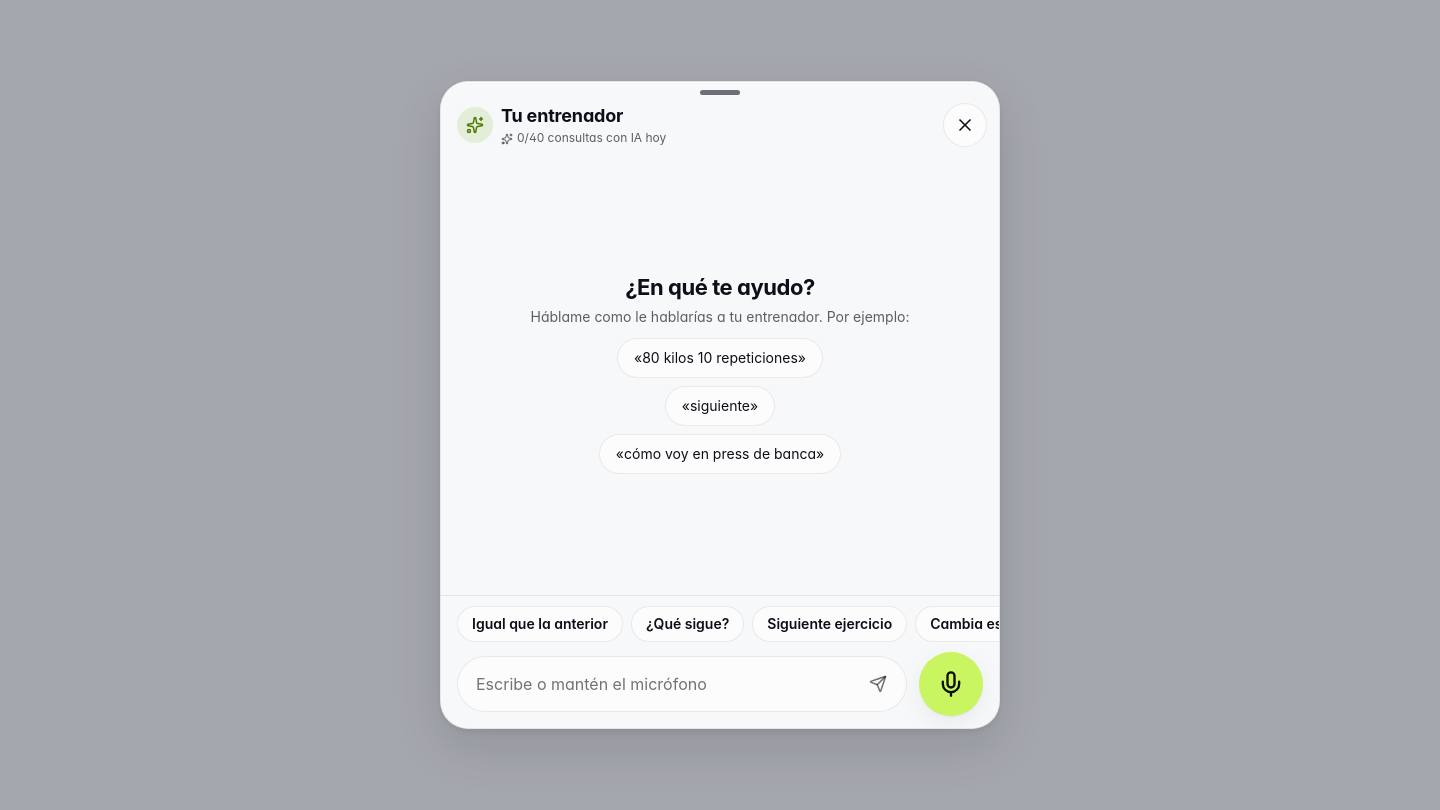
Test: AssistantSheet › local router logs a set, shows a chip with Deshacer, and undo reverts it
This screenshot has width=1440, height=810.
Step 1. Type "80 kilos 10 repeticiones" into the field named "Mensaje para el asistente" → (663, 684), box x1=474 y1=657 x2=852 y2=711
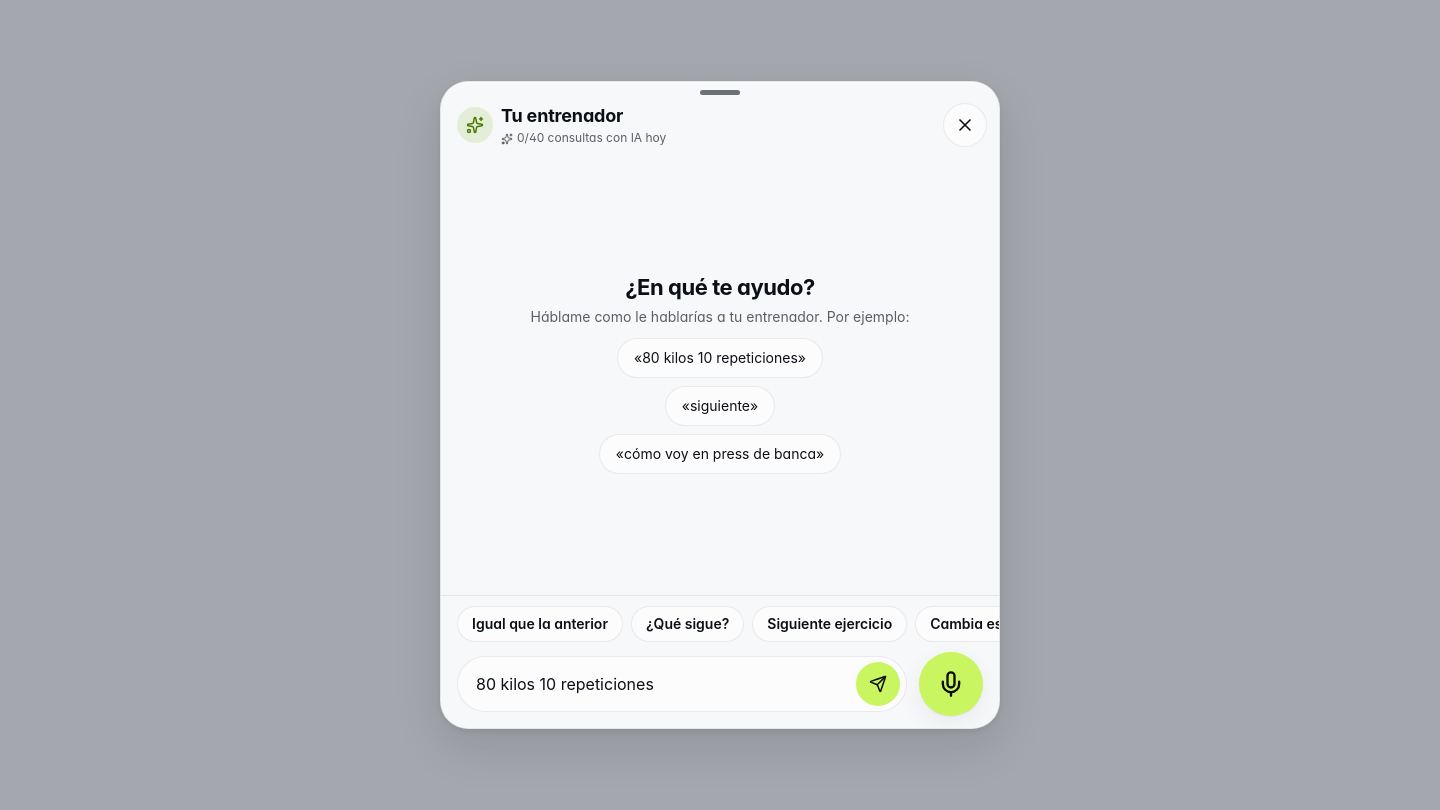
Step 2. Submit the form named "Mensaje para el asistente", box x1=457 y1=652 x2=983 y2=716
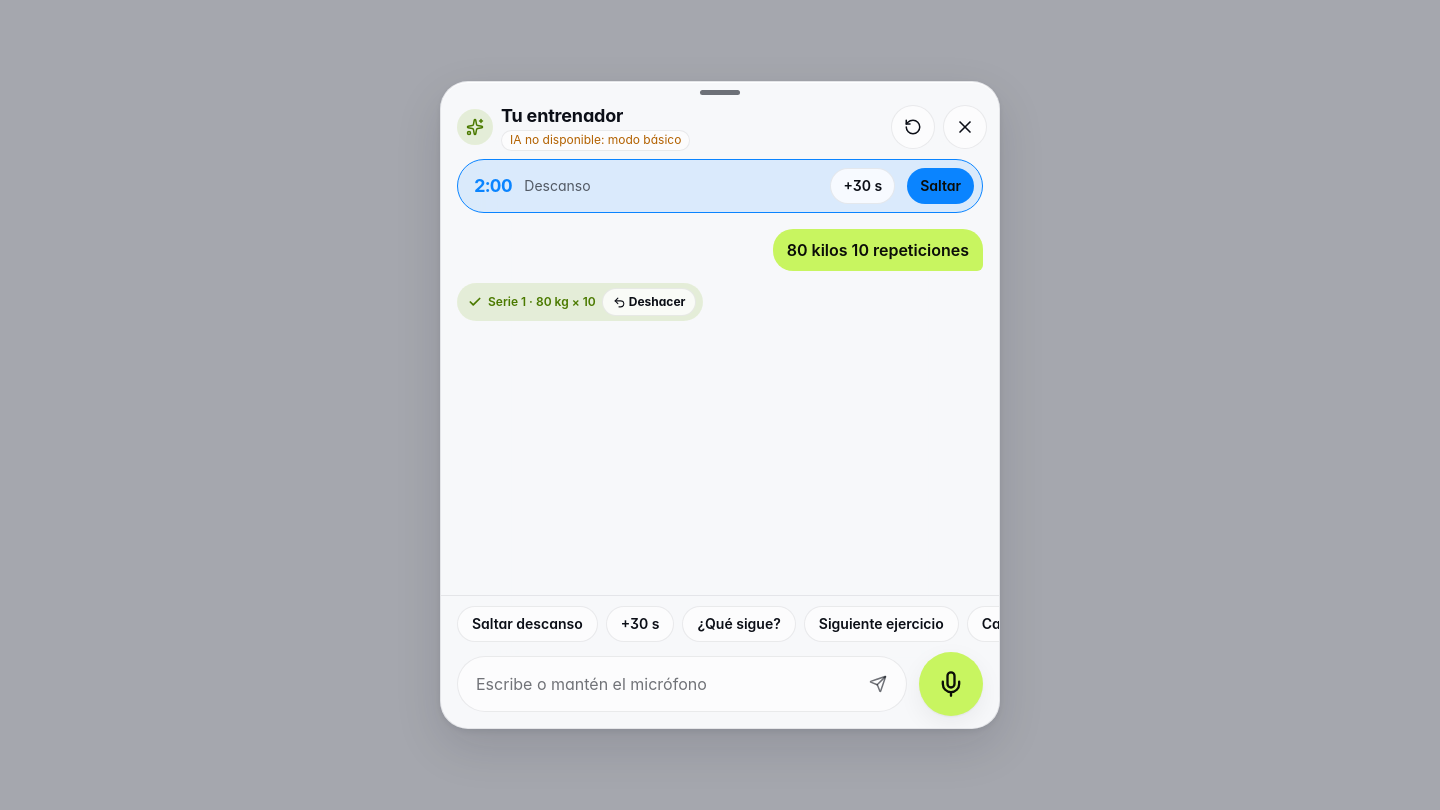
Now the text "Serie 1 · 80 kg × 10" is shown, box x1=488 y1=294 x2=596 y2=310
Step 3. Click the button "Deshacer" → (649, 302), box x1=602 y1=288 x2=696 y2=316
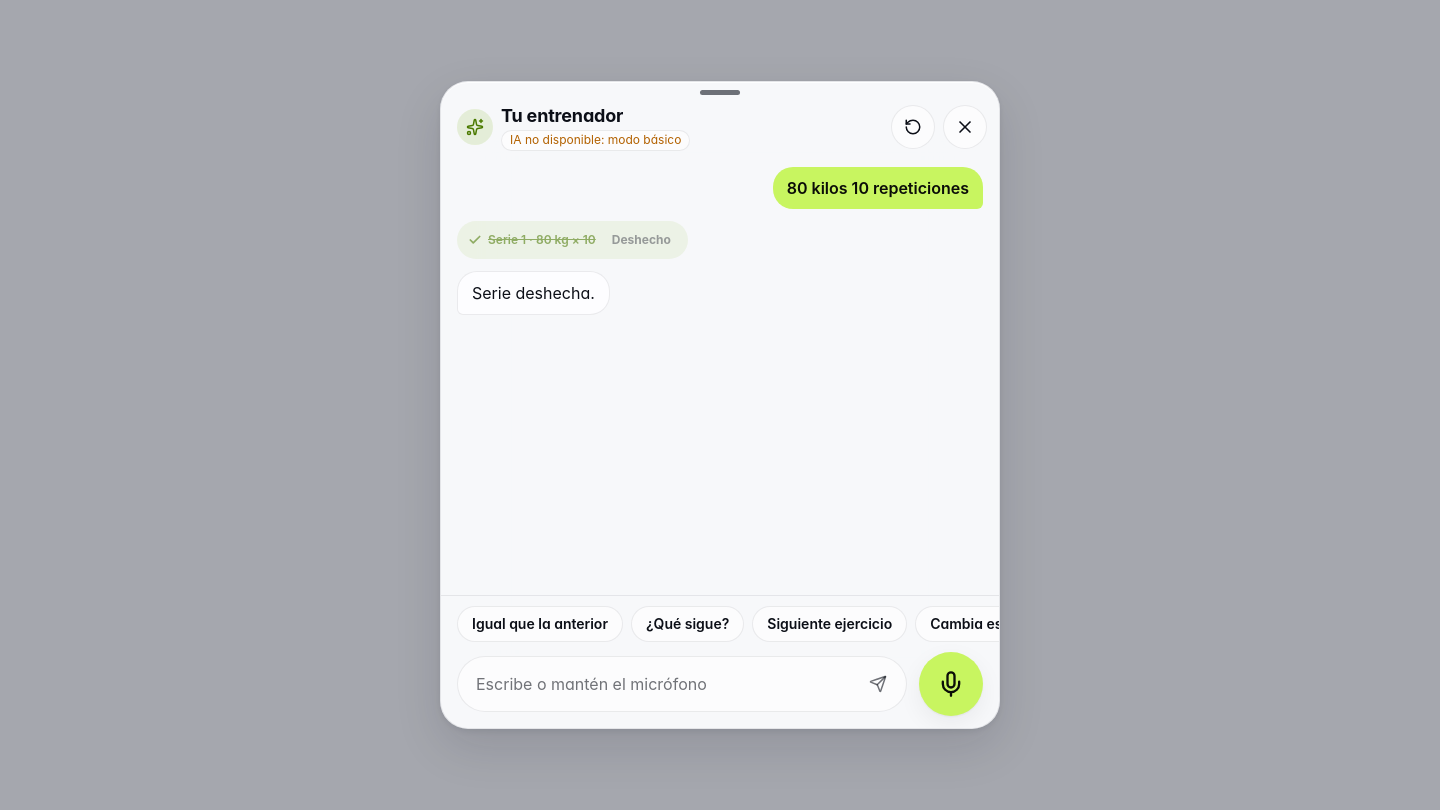
Now the text "Deshecho" is shown, box x1=612 y1=232 x2=671 y2=247
